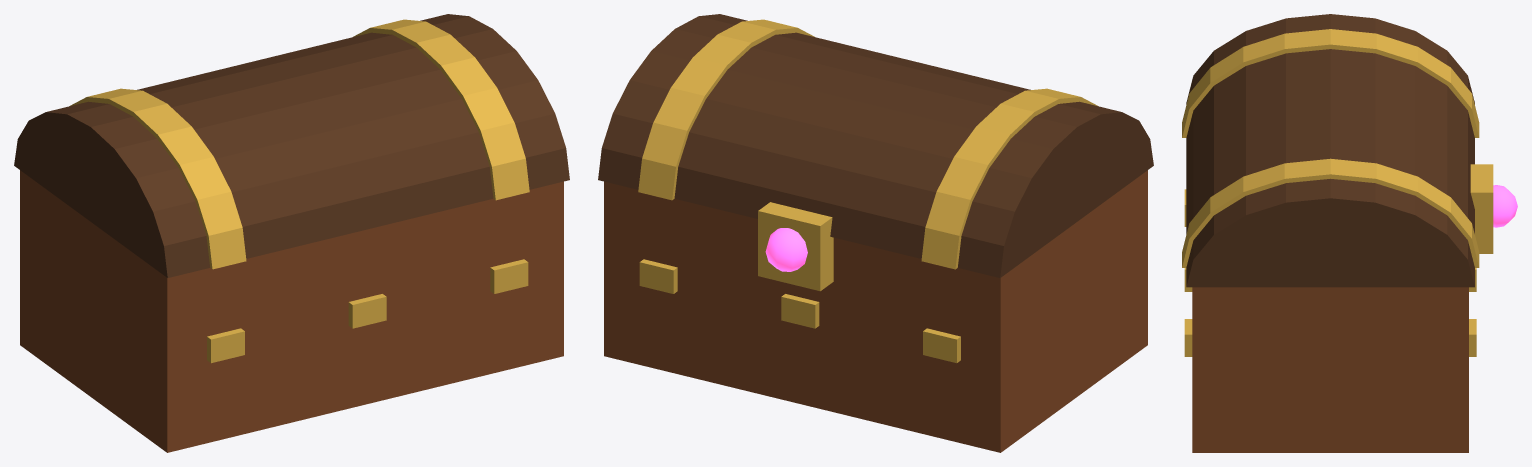
File: chest.glb
3 views of the same model, side by side, from view 1: azimuth 30°, elevation 25°; view 2: azimuth 150°, elevation 25°; view 3: azimuth 270°, elevation 25° (orthographic). The views are drawn at different scales.
Parts seen in each view (by area): view 1: Wood_8A4F2A, WoodDark_5C3A22, Gold_E6B84A (×2); view 2: Wood_8A4F2A, WoodDark_5C3A22, Gold_E6B84A (×2), Gem_FF4FA3; view 3: WoodDark_5C3A22, Wood_8A4F2A, Gold_E6B84A (×2), Gem_FF4FA3.
Boxes of the visible parts, x1,y1,x2,y2 form: Wood_8A4F2A: (20, 170, 563, 452); WoodDark_5C3A22: (14, 14, 569, 277); Gold_E6B84A (×2): (69, 19, 529, 363); Wood_8A4F2A: (604, 170, 1147, 452); WoodDark_5C3A22: (598, 14, 1153, 277); Gold_E6B84A (×2): (638, 19, 1098, 363); Gem_FF4FA3: (765, 228, 807, 271); WoodDark_5C3A22: (1186, 14, 1474, 287); Wood_8A4F2A: (1192, 287, 1468, 452); Gold_E6B84A (×2): (1182, 29, 1493, 356); Gem_FF4FA3: (1493, 185, 1517, 227).
Size of the model in its own units: 5.07 by 3.34 by 3.91.
